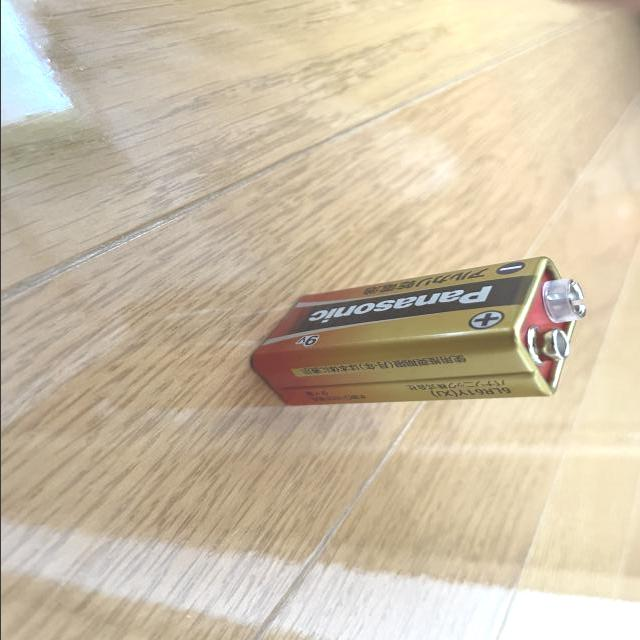9V: (252, 257, 584, 404)
